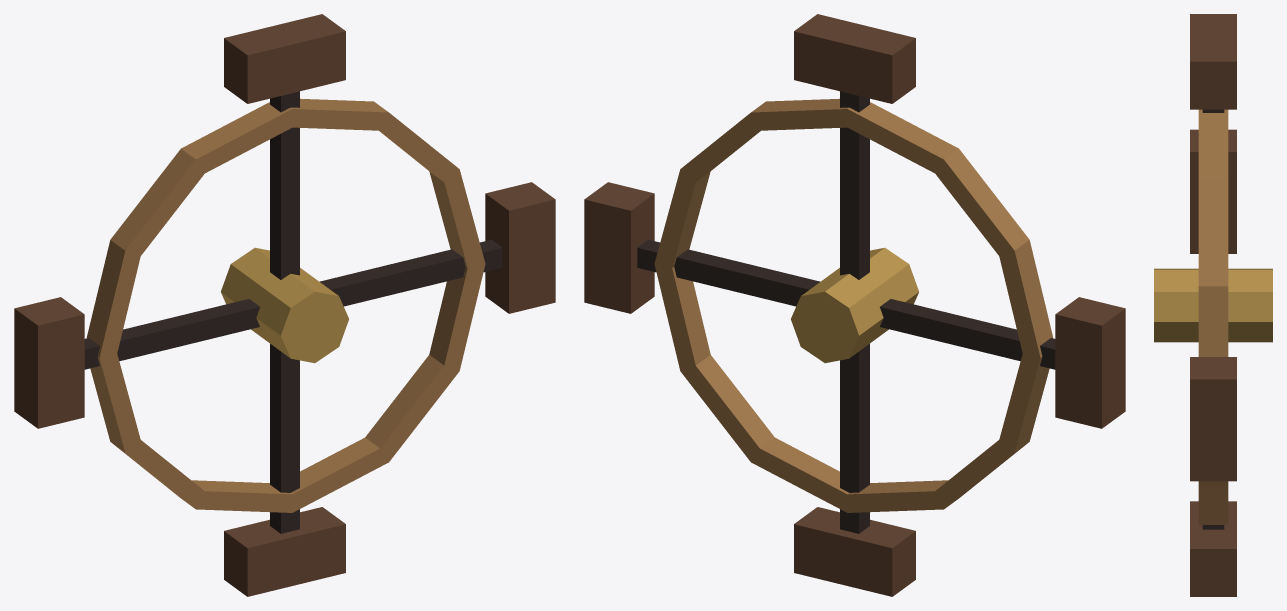
Rendered from PirateCove_TidewheelRotor_Simple.glb.
The picture shows the model from 3 angles, left to right: view 1: azimuth 30°, elevation 25°; view 2: azimuth 150°, elevation 25°; view 3: azimuth 270°, elevation 25°; orthographic projection.
Visible parts, largest first — view 1: PirateCove_TidewheelRotor_Simple; view 2: PirateCove_TidewheelRotor_Simple; view 3: PirateCove_TidewheelRotor_Simple.
Part boxes in pixels (bbox=[...]): PirateCove_TidewheelRotor_Simple: bbox=[14, 14, 555, 596]; PirateCove_TidewheelRotor_Simple: bbox=[584, 14, 1125, 596]; PirateCove_TidewheelRotor_Simple: bbox=[1154, 14, 1272, 596].
Size of the model in its own units: 3.78 by 3.78 by 0.76.
